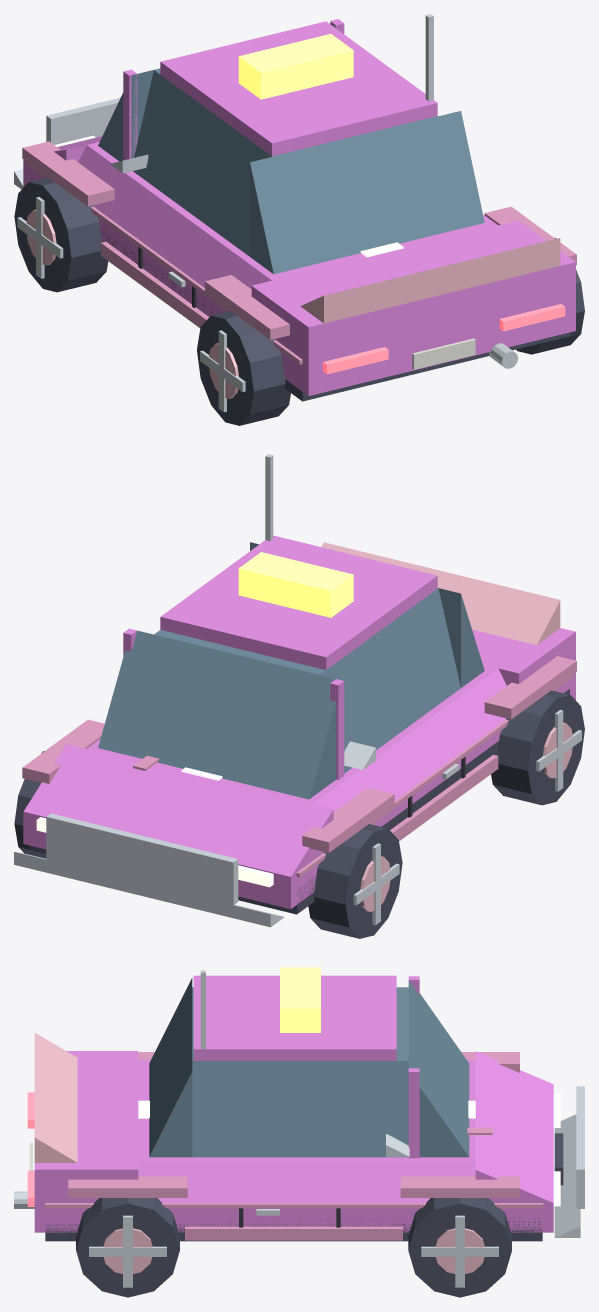
The model's file is rainy_commuter.glb.
3 views of the same model, one above another, from view 1: azimuth 30°, elevation 25°; view 2: azimuth 150°, elevation 25°; view 3: azimuth 270°, elevation 25° (orthographic). The views are drawn at different scales.
Parts seen in each view (by area): view 1: RearWindow.149, Tail.049, Roof.249, CabinSideL.046, Body.249, ShoulderL.046, Ducktail.035, Wheel_RL.209, Wheel_FL.209, TaxiLight.014, Arch-1False.125, BodyUpper.046 (+17 smaller); view 2: Windshield.149, Nose.046, Roof.249, CabinSideL.046, Bullbar.024, ShoulderL.046, Wheel_FL.209, Wheel_RL.209, Ducktail.035, TaxiLight.014, Body.249, Bumper.245 (+17 smaller); view 3: CabinSideR.046, Roof.249, ShoulderR.046, Tail.049, Nose.046, Windshield.149, Body.249, Wheel_FR.209, Wheel_RR.209, RearWindow.149, Ducktail.035, SideSkirt1.145 (+19 smaller).
Part boxes in pixels (left/top/right/bottom): RearWindow.149: left=250, top=111, right=484, bottom=274; Tail.049: left=251, top=220, right=575, bottom=363; Roof.249: left=160, top=21, right=437, bottom=156; CabinSideL.046: left=133, top=70, right=272, bottom=256; Body.249: left=23, top=159, right=575, bottom=395; ShoulderL.046: left=78, top=145, right=271, bottom=288; Ducktail.035: left=300, top=238, right=560, bottom=323; Wheel_RL.209: left=197, top=311, right=290, bottom=425; Wheel_FL.209: left=14, top=177, right=108, bottom=292; TaxiLight.014: left=238, top=34, right=353, bottom=99; Arch-1False.125: left=22, top=141, right=114, bottom=206; BodyUpper.046: left=87, top=142, right=497, bottom=280; Windshield.149: left=98, top=630, right=336, bottom=799; Nose.046: left=24, top=744, right=333, bottom=876; Roof.249: left=160, top=535, right=437, bottom=669; CabinSideL.046: left=320, top=588, right=460, bottom=773; Bullbar.024: left=46, top=813, right=238, bottom=905; ShoulderL.046: left=313, top=668, right=506, bottom=812; Wheel_FL.209: left=308, top=824, right=402, bottom=938; Wheel_RL.209: left=491, top=690, right=584, bottom=805; Ducktail.035: left=321, top=542, right=560, bottom=645; TaxiLight.014: left=238, top=552, right=353, bottom=617; Body.249: left=23, top=672, right=575, bottom=908; Bumper.245: left=14, top=852, right=284, bottom=927; CabinSideR.046: left=192, top=1061, right=408, bottom=1157; Roof.249: left=193, top=975, right=396, bottom=1060; ShoulderR.046: left=138, top=1160, right=475, bottom=1202; Tail.049: left=34, top=1051, right=138, bottom=1202; Nose.046: left=475, top=1051, right=553, bottom=1202; Windshield.149: left=408, top=980, right=469, bottom=1157; Body.249: left=34, top=1203, right=553, bottom=1232; Wheel_FR.209: left=408, top=1198, right=511, bottom=1297; Wheel_RR.209: left=76, top=1198, right=179, bottom=1297; RearWindow.149: left=149, top=978, right=192, bottom=1157; Ducktail.035: left=34, top=1033, right=77, bottom=1162; SideSkirt1.145: left=185, top=1226, right=402, bottom=1240.
Size of the model in its own units: 3.3 by 2.94 by 5.28.
